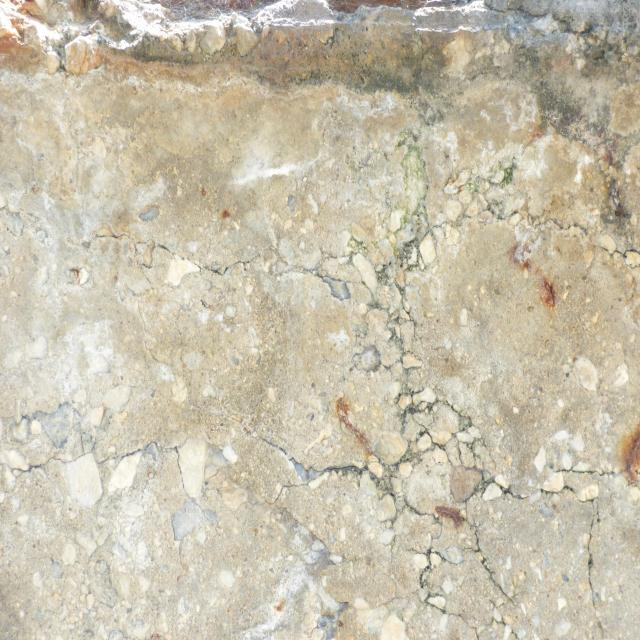corrosion: (319, 372, 478, 540), (0, 0, 125, 87), (491, 224, 574, 324), (190, 165, 248, 232), (595, 413, 640, 491)
